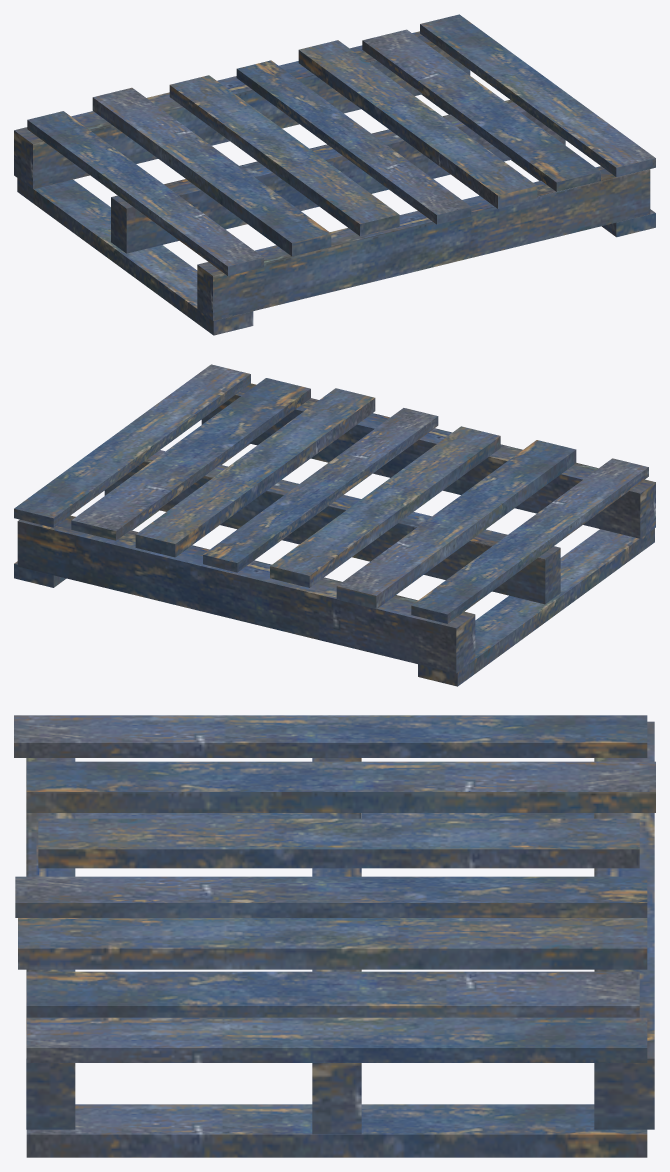
The model's file is Prop_Woodstep1.glb.
The picture shows the model from 3 angles, top to bottom: view 1: azimuth 30°, elevation 25°; view 2: azimuth 150°, elevation 25°; view 3: azimuth 270°, elevation 25°; orthographic projection. The views are drawn at different scales.
Visible parts, largest first — view 1: xiutz_woodstep1; view 2: xiutz_woodstep1; view 3: xiutz_woodstep1.
Boxes of the visible parts, x1=… form: xiutz_woodstep1: x1=14, y1=14, x2=655, y2=335; xiutz_woodstep1: x1=14, y1=364, x2=655, y2=686; xiutz_woodstep1: x1=14, y1=715, x2=655, y2=1157.
Size of the model in its own units: 2.37 by 0.3753 by 1.89.
1 material, 1 textured.
